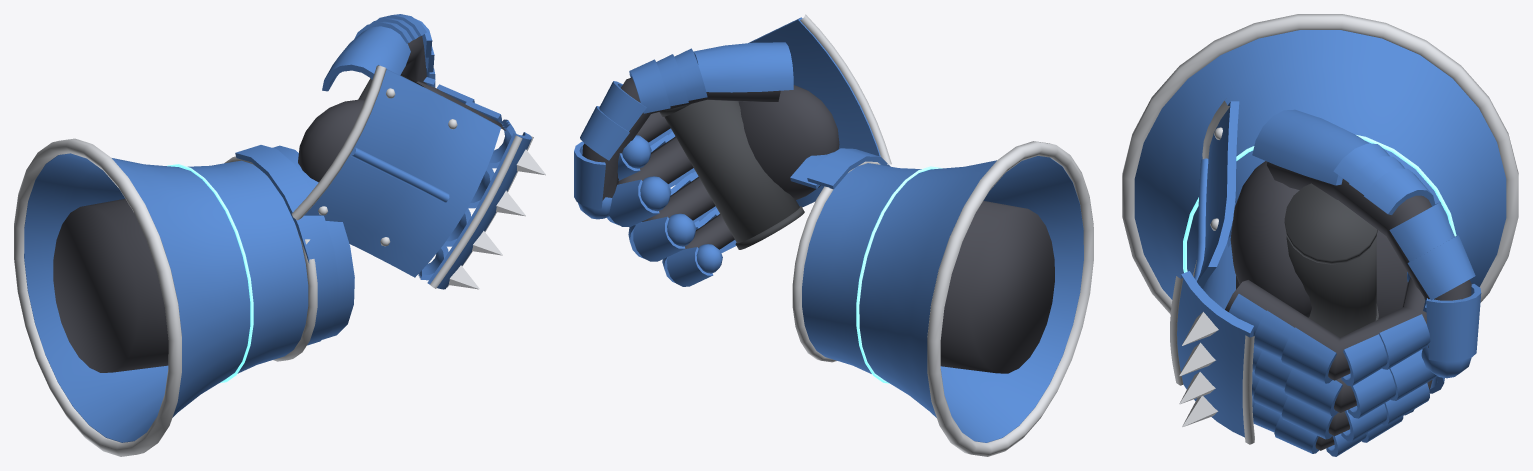
The model's file is P11_gauntlet_1.glb.
3 views of the same model, side by side, from view 1: azimuth 30°, elevation 25°; view 2: azimuth 150°, elevation 25°; view 3: azimuth 270°, elevation 25° (orthographic). The views are drawn at different scales.
Parts seen in each view (by area): view 1: gauntlet_1; view 2: gauntlet_1; view 3: gauntlet_1.
Part boxes in pixels (box(x1,y1,x2,y2)): gauntlet_1: box(14, 14, 545, 456); gauntlet_1: box(574, 14, 1093, 456); gauntlet_1: box(1122, 14, 1518, 456).
Bounding box in the file's own units: 0.2146 × 0.1671 × 0.141.
